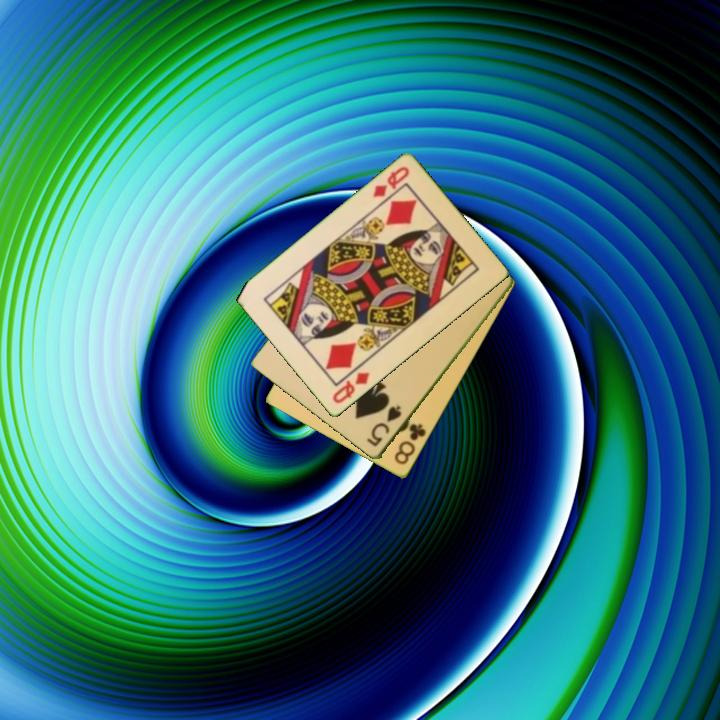5s: (363, 402, 404, 450)
8c: (391, 420, 429, 468)
Qd: (329, 369, 373, 407), (369, 163, 413, 201)
